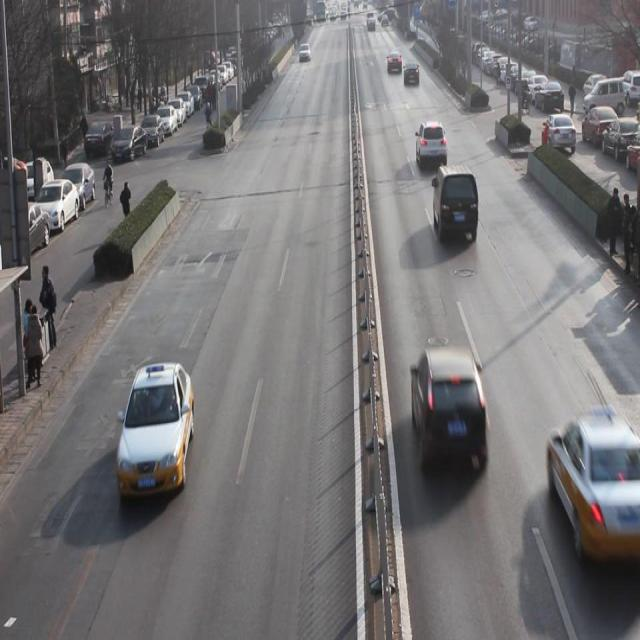car: (546, 422, 640, 569), (122, 358, 195, 506), (410, 352, 491, 480), (415, 119, 449, 173), (404, 58, 419, 90), (387, 52, 403, 76), (296, 41, 310, 66)
truck: (431, 167, 481, 247)
